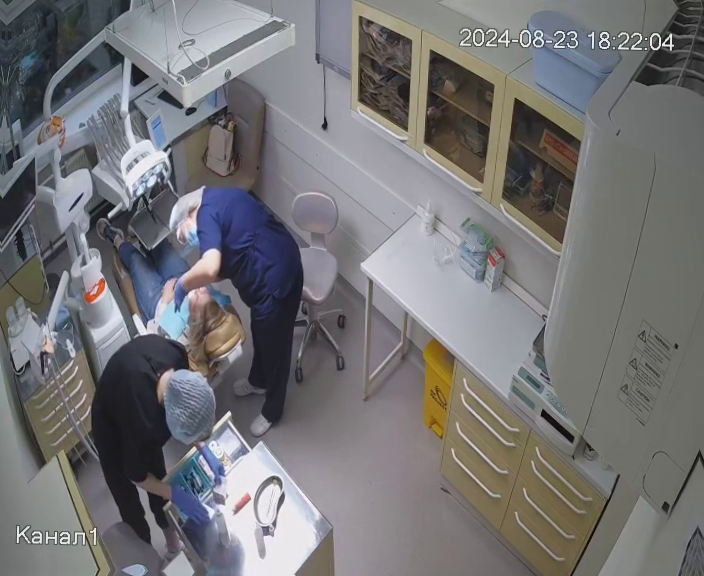Patient: (93, 223, 251, 370)
